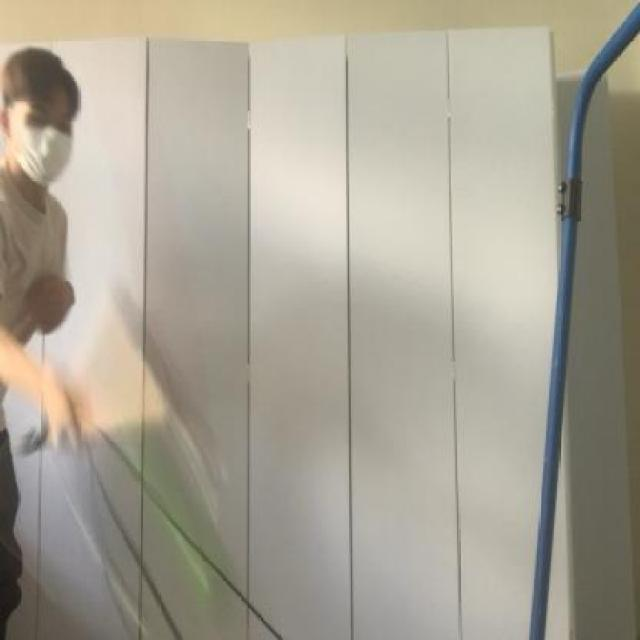baseball: (113, 414, 238, 618)
